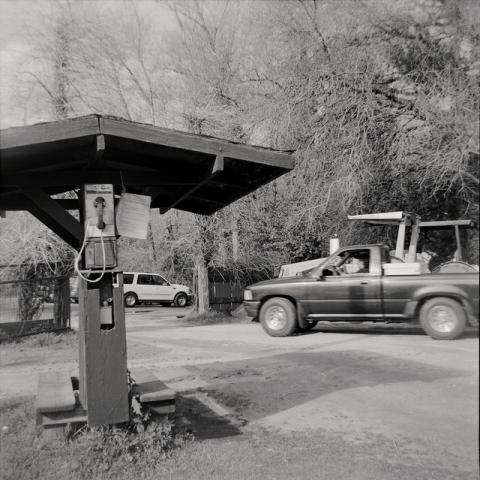car: (69, 276, 79, 304)
truck: (242, 245, 479, 343), (123, 272, 196, 307)
